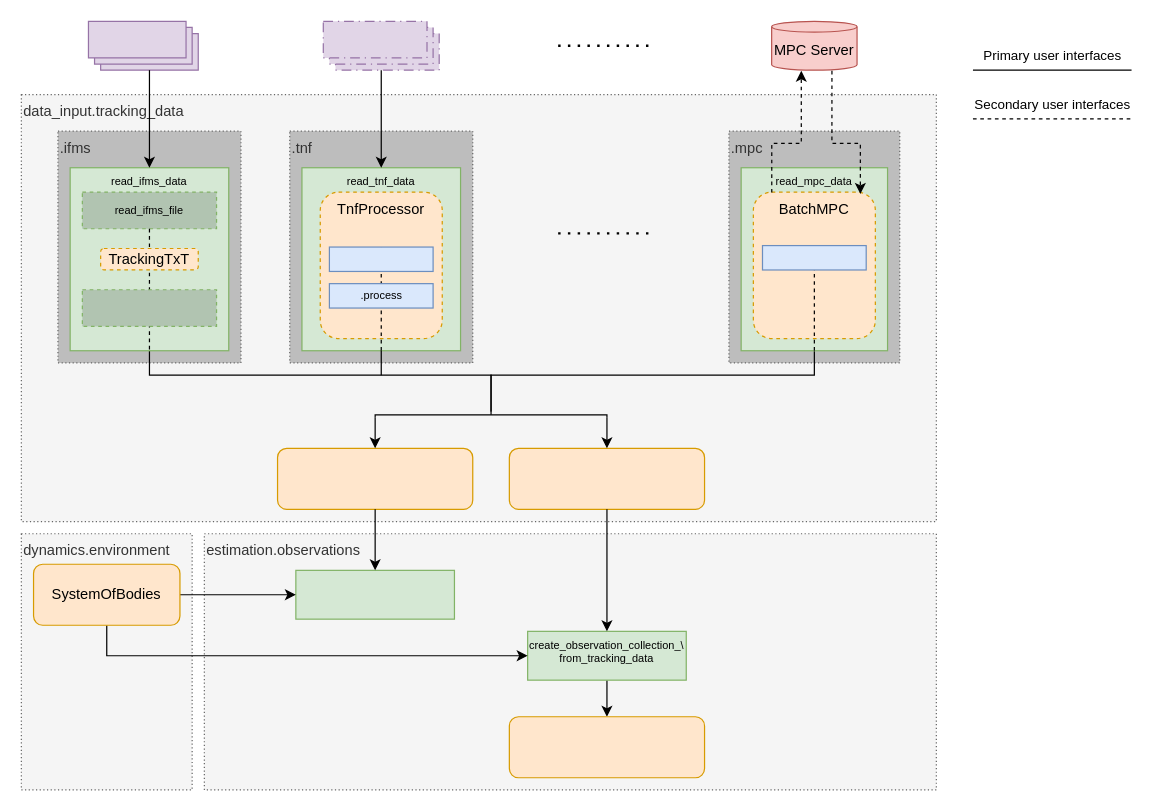
This 1154x811 diagram has some shape labels left out. Here are the shapes that lost their labels. From the top down, the centre of each, then its label:
At point 142,45: "IFMS".
At point 380,45: "TNF".
At point 380,258: ".extract".
At point 813,257: ".get_observations".
At point 149,307: "convert_raw_ifms_files".
At point 374,478: "TrackingSupplementaryData".
At point 606,478: "TrackingData".
At point 374,594: "set_tracking_supplementary_\ data_in_bodies".
At point 606,747: "ObservationCollection".
